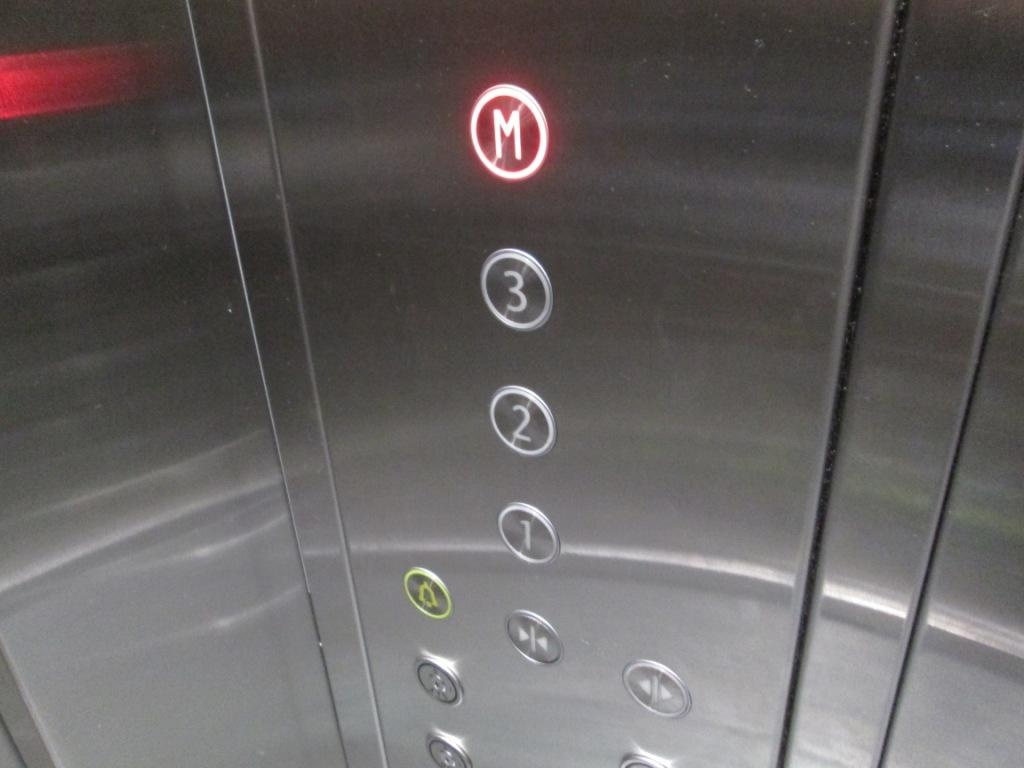1: (492, 497, 560, 566)
2: (485, 378, 558, 458)
3: (476, 241, 556, 334)
M: (465, 76, 554, 186)
alarm: (398, 562, 454, 620)
close: (502, 604, 564, 670)
keyhole: (409, 647, 467, 712)
open: (618, 653, 694, 722)
